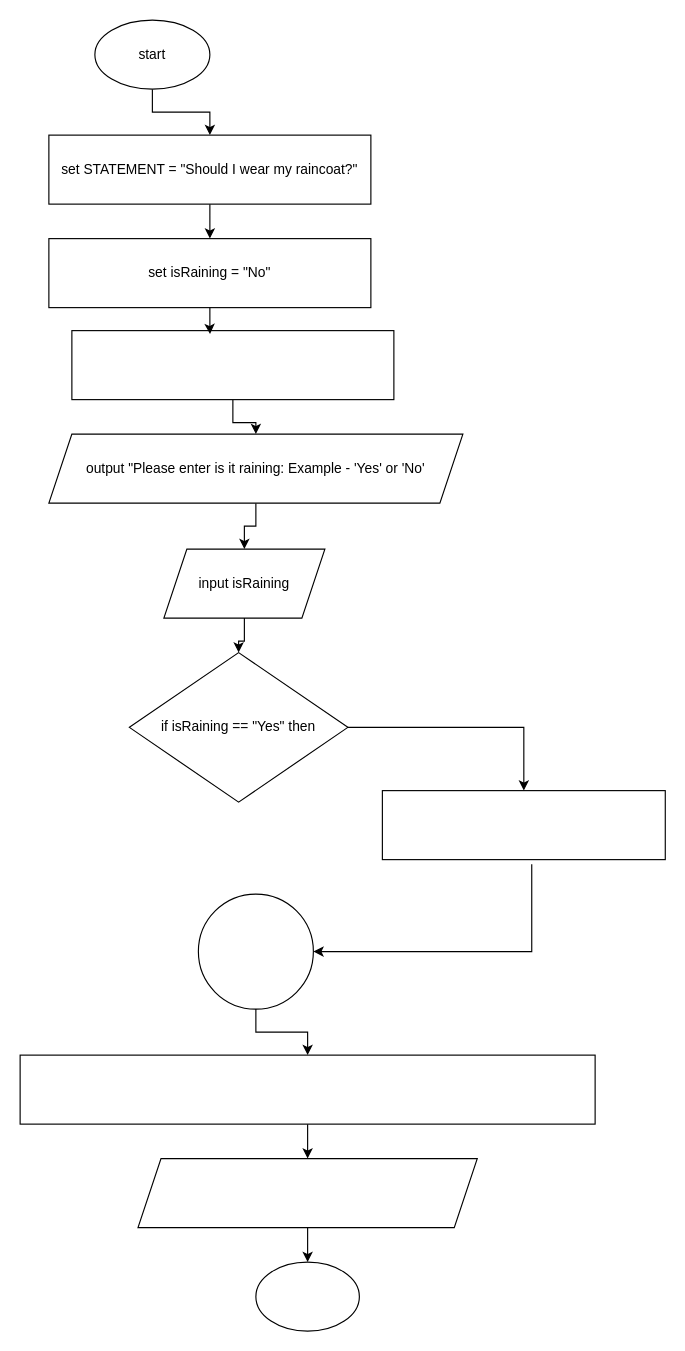
Image size: 685x1351. Some labels were removed from this diagram. The centre of each missing label's shape, as x and y in pixels:
set putOnRainCoat = "No": point 232,364
set putOnRainCoat = "Yes": point 523,824
stop: point 307,1296
